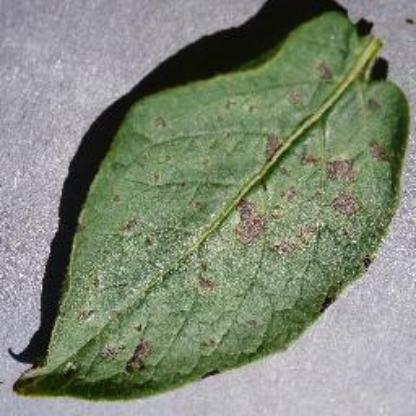Early-Blight: (18, 6, 408, 402)
